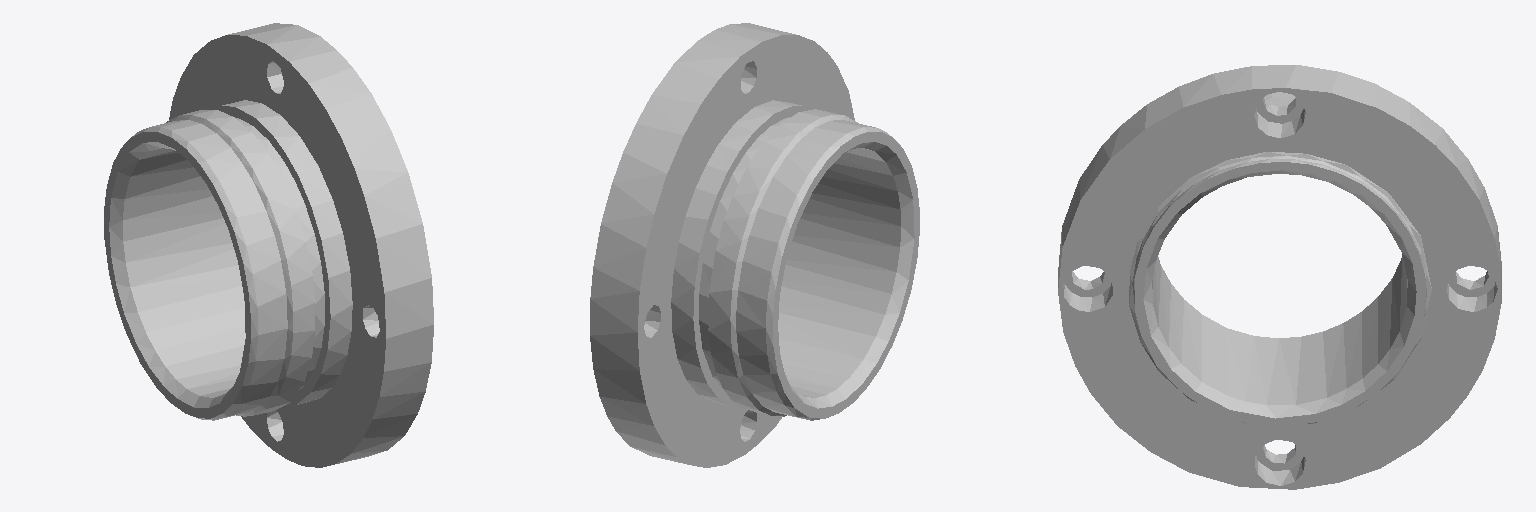
The model's file is sealing sleeve.obj.
3 renders of one model, left to right at view 1: azimuth 30°, elevation 25°; view 2: azimuth 150°, elevation 25°; view 3: azimuth 270°, elevation 25°, orthographic.
Parts seen in each view (by area): view 1: imagetostl_mesh0; view 2: imagetostl_mesh0; view 3: imagetostl_mesh0.
Boxes of the visible parts, box(x1,y1,x2,y2) form: imagetostl_mesh0: box(104, 23, 433, 467); imagetostl_mesh0: box(590, 23, 919, 467); imagetostl_mesh0: box(1058, 65, 1501, 489).
Size of the model in its own units: 85 by 208 by 208.